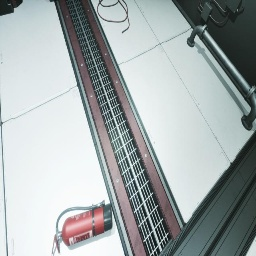FireExtinguisher ]: (52, 200, 113, 256)
